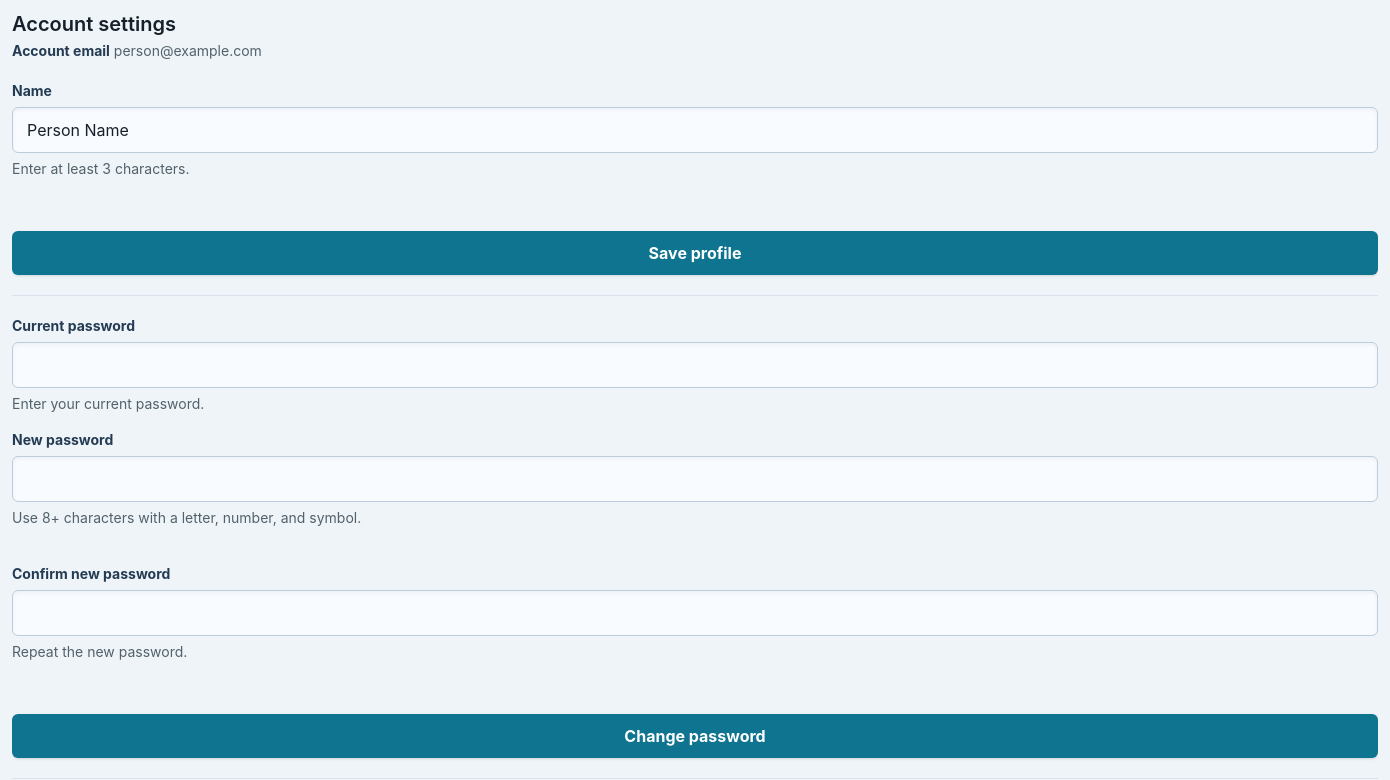
Test: AccountSettingsPanel › shows profile API errors
Step 1. Replace the text in the field labelled "Name" with "Updated Person" → (695,130), box [12, 107, 1378, 153]
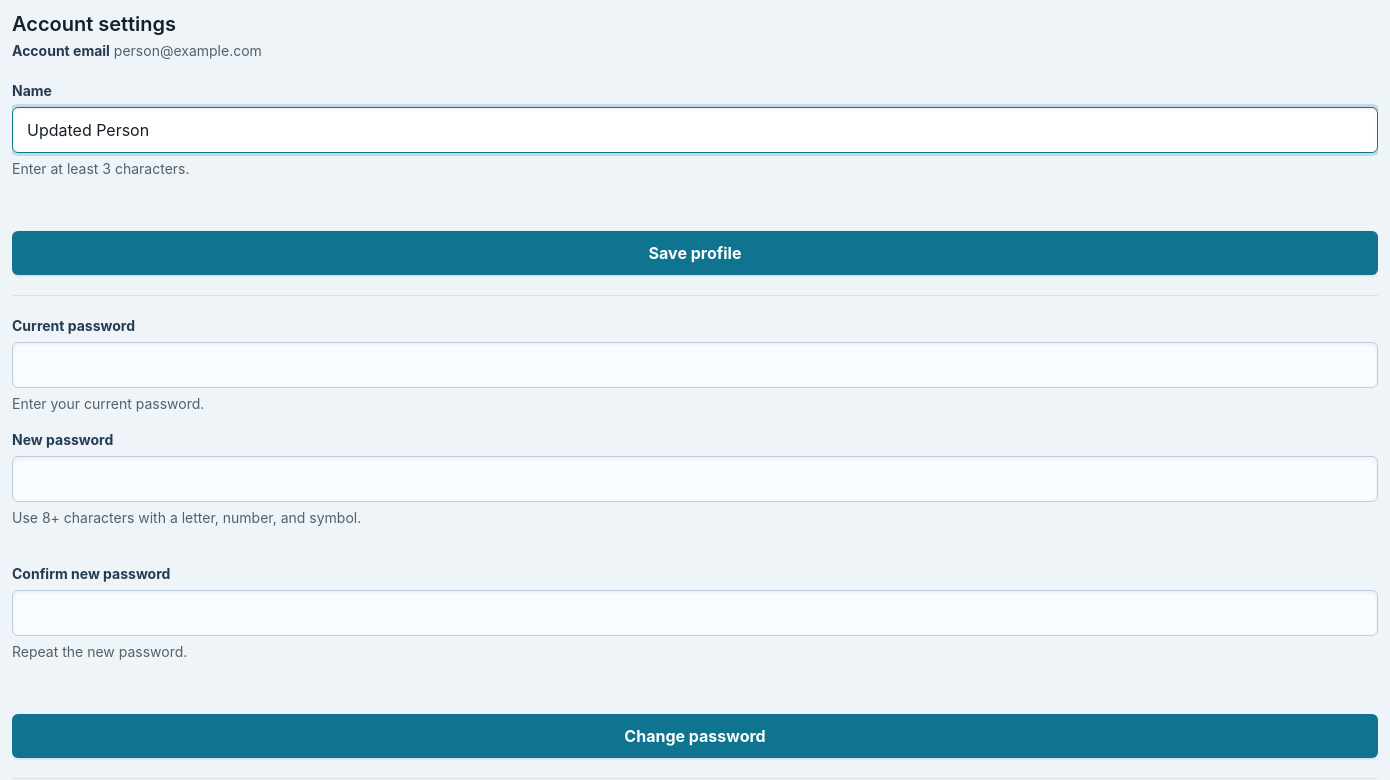
Step 2. Click the button "Save profile" → (695,253), box [12, 231, 1378, 275]
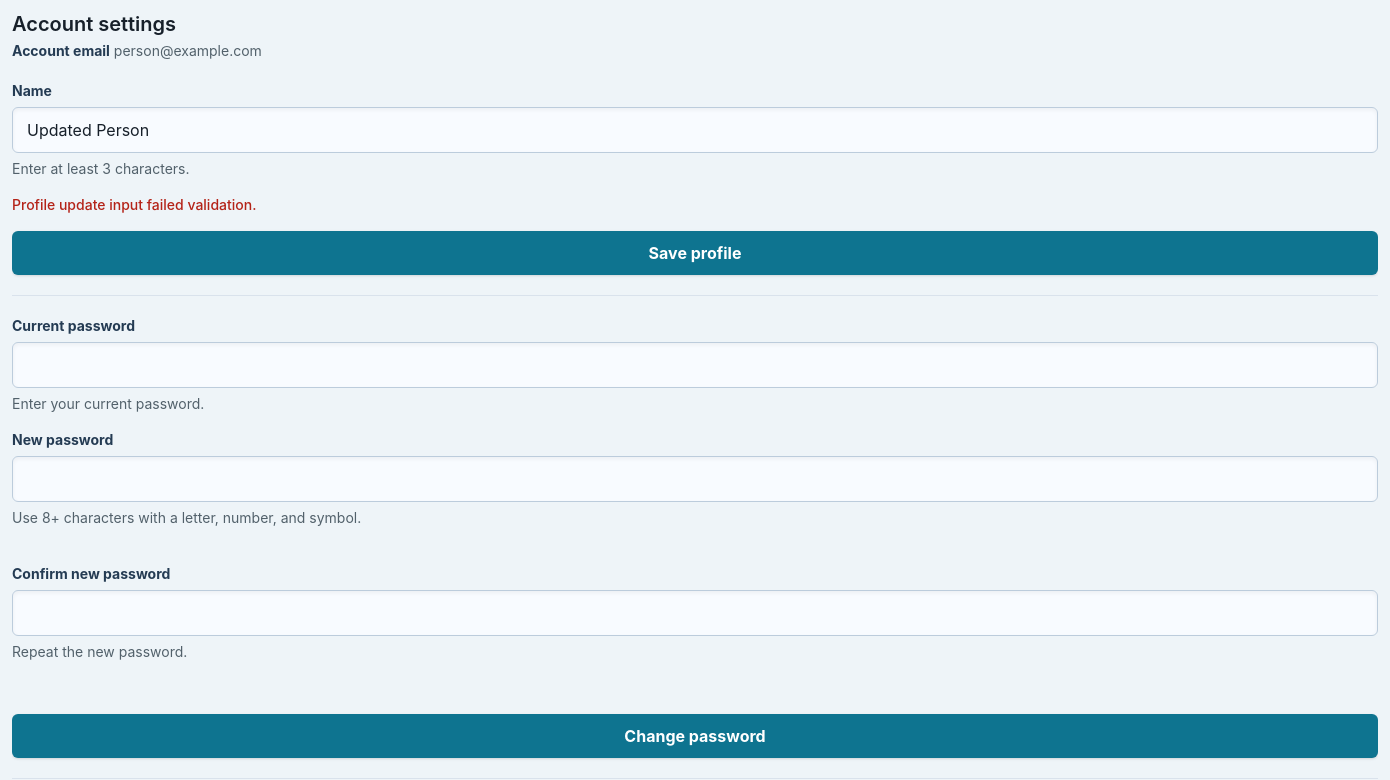
Now the text "Profile update input failed validation." is shown, box [12, 196, 256, 213]
